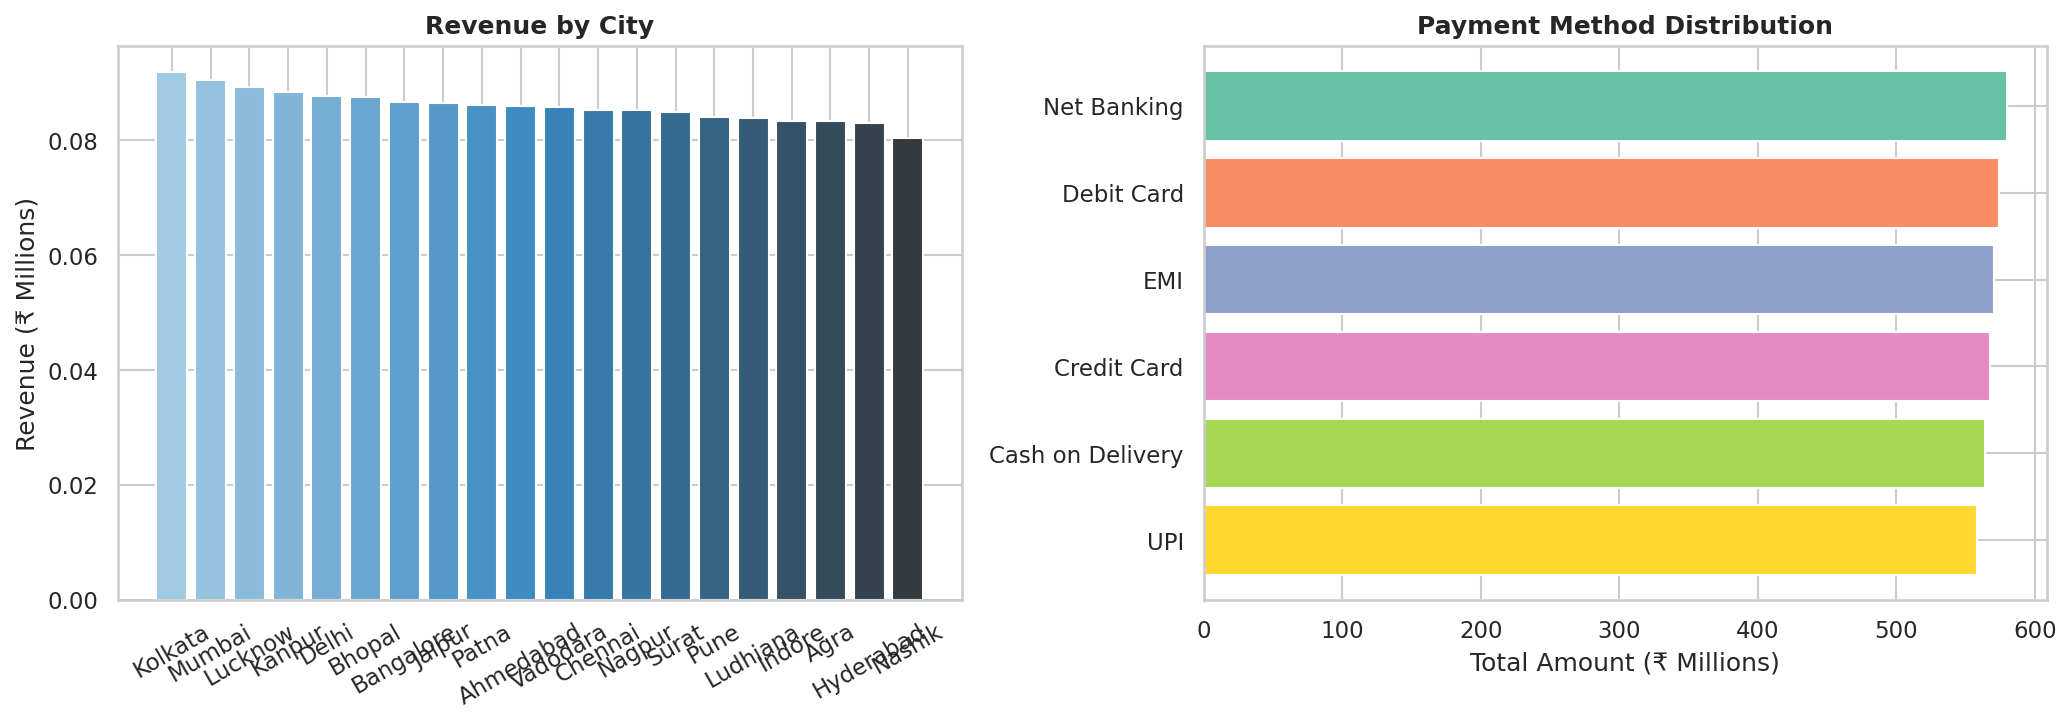

The page's visual inventory and layout, read from the dashboard file:
{"tool":"powerbi","page":{"name":"City & Payments","canvas":[1280,720],"ordinal":2},"visuals":[{"type":"clusteredBarChart","title":"Revenue by City","fields":{"Category":["powerbi_city_performance.city"],"Y":["Sum(powerbi_city_performance.revenue)"]},"box":[10,0,560,720],"z":0},{"type":"clusteredBarChart","title":"Payment Method Distribution","fields":{"Category":["powerbi_payments.payment_method"],"Y":["Sum(powerbi_payments.total_amount)"]},"box":[606,0,674,720],"z":1}]}

Visuals, with their boxes on the page's 1280x720 design canvas (x1, y1, x2, y2). These are canvas units, not pixel positions in the 2071x724 screenshot, which may show the page scaled, cropped or inside an application window:
"Revenue by City" clusteredBarChart: bbox(10, 0, 570, 720)
"Payment Method Distribution" clusteredBarChart: bbox(606, 0, 1280, 720)
